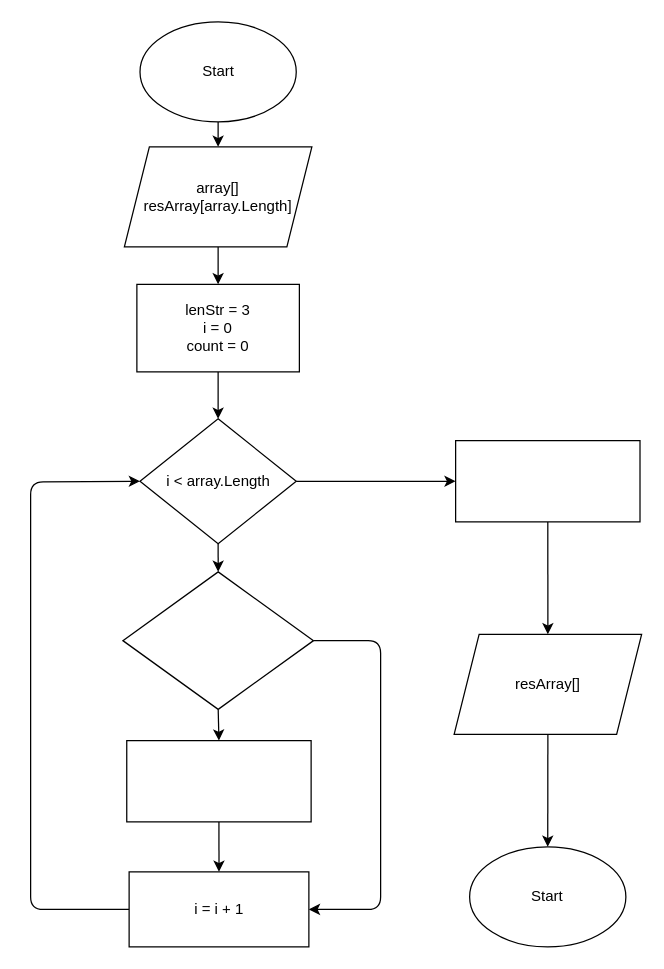
Image size: 664x969. Some labels were removed from this diagram. The shapes that lost their labels are listed below. From the top down, each one's centre as x and y in pixels, then its label:
pixel 547 480: Array.Resize(resArray. count)
pixel 218 640: array[].Length <= lenStr
pixel 218 780: resArray[count] = array[i] count = count + 1
